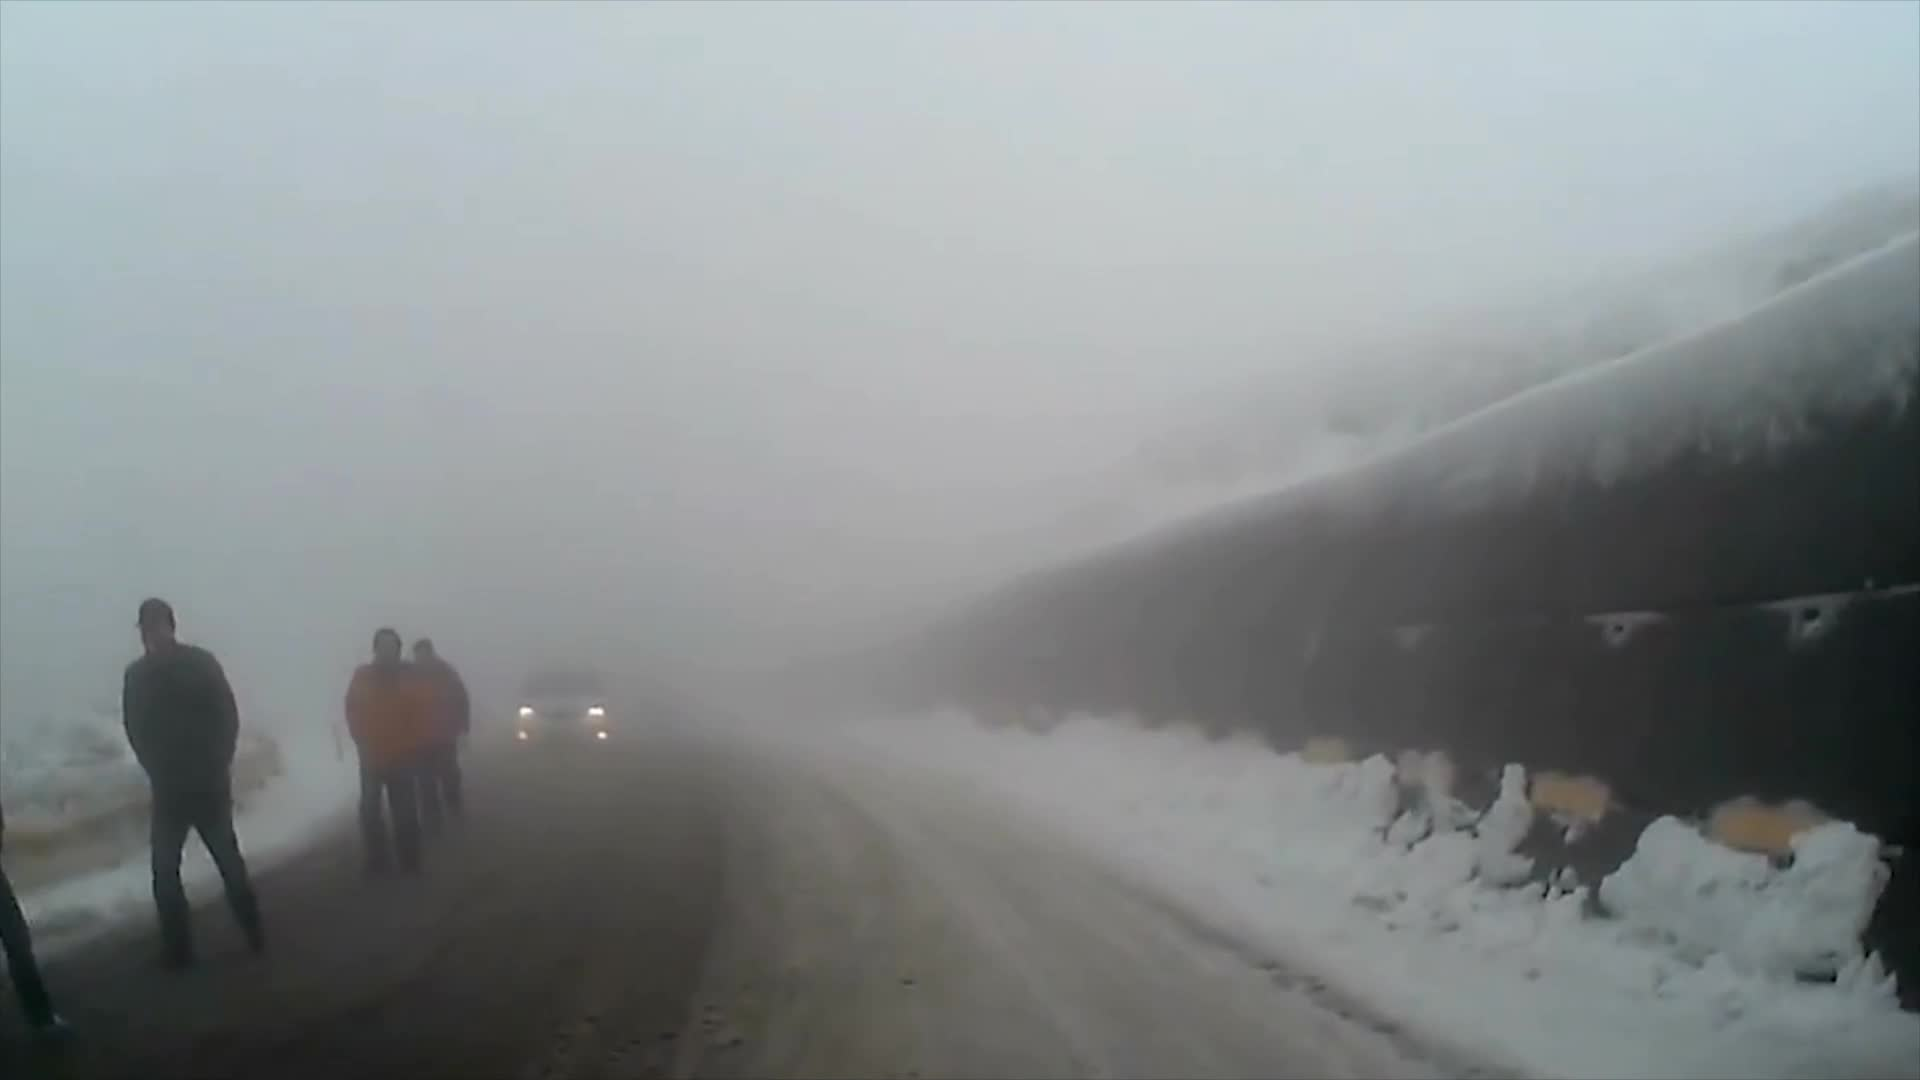pedestrian: (121, 599, 266, 974), (1, 625, 88, 1033), (337, 622, 435, 874), (386, 627, 471, 849)
vehicle: (510, 667, 612, 759), (514, 683, 616, 775)
